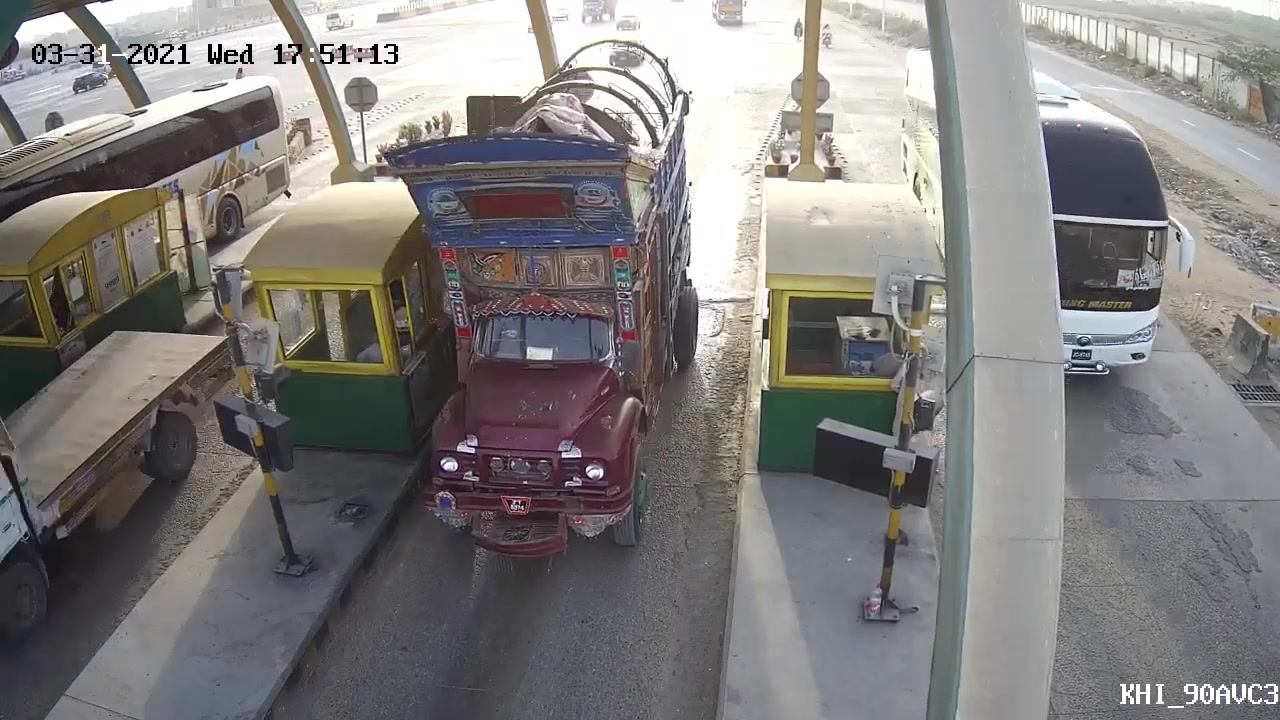F5: (395, 35, 705, 559)
